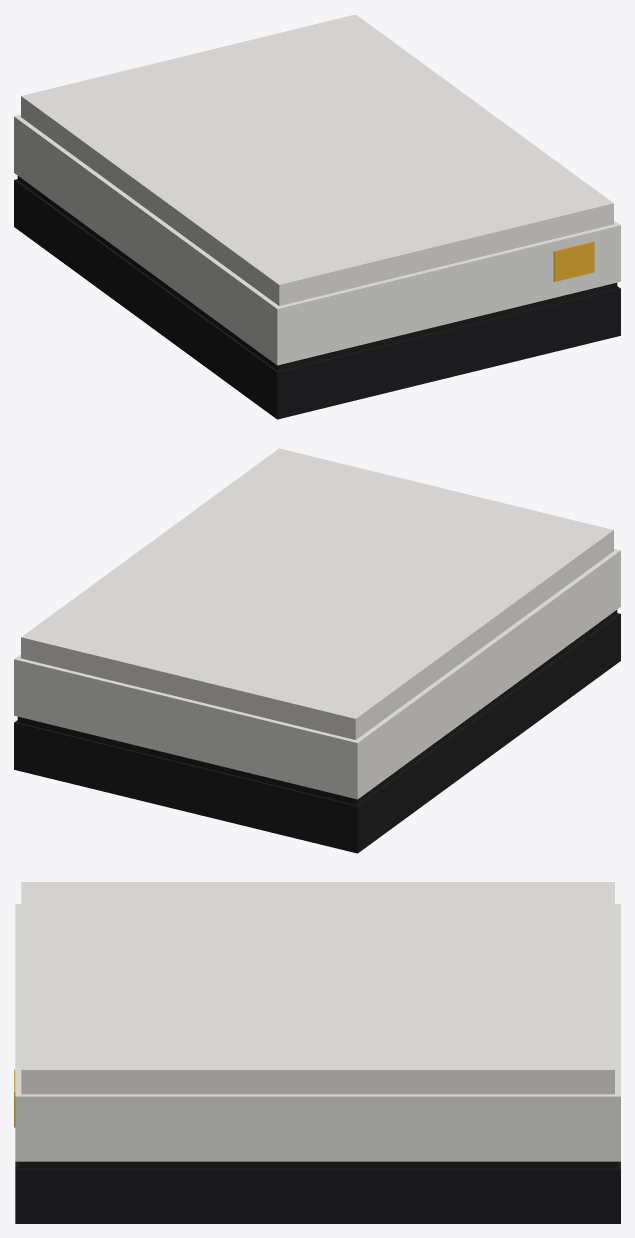
The model's file is pk_mat_white.glb.
3 views of the same model, one above another, from view 1: azimuth 30°, elevation 25°; view 2: azimuth 150°, elevation 25°; view 3: azimuth 270°, elevation 25° (orthographic). The views are drawn at different scales.
Visible parts, largest first — view 1: pk_mat_white; view 2: pk_mat_white; view 3: pk_mat_white.
Boxes of the visible parts, <box> form: pk_mat_white: <box>14,14,620,419</box>; pk_mat_white: <box>14,448,620,853</box>; pk_mat_white: <box>14,882,620,1223</box>.
Bounding box in the file's own units: 1.53 × 0.56 × 2.03.
1 material, 1 textured.
